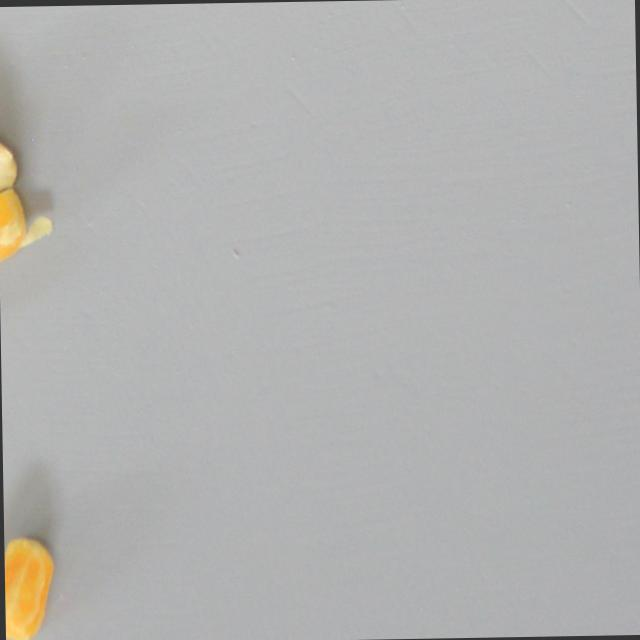pelicula: (4, 531, 58, 640), (0, 184, 53, 280), (0, 113, 19, 202)
